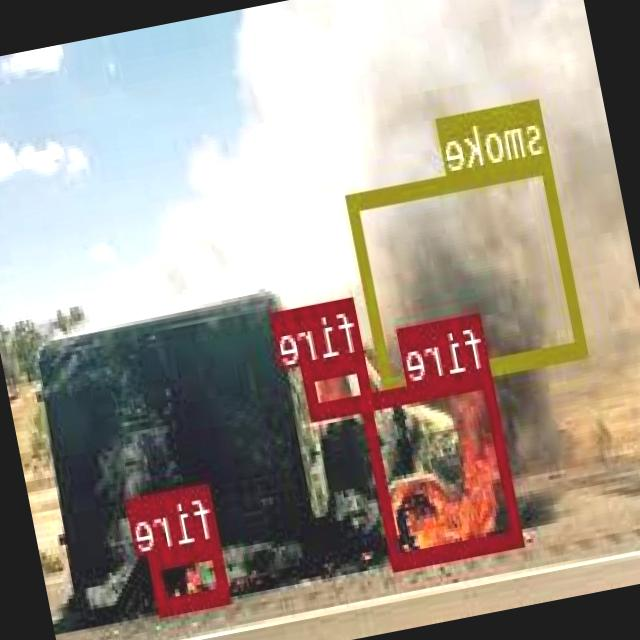fire: (362, 369, 526, 568), (150, 538, 232, 612), (302, 350, 376, 416)
smoke: (348, 155, 590, 391)
